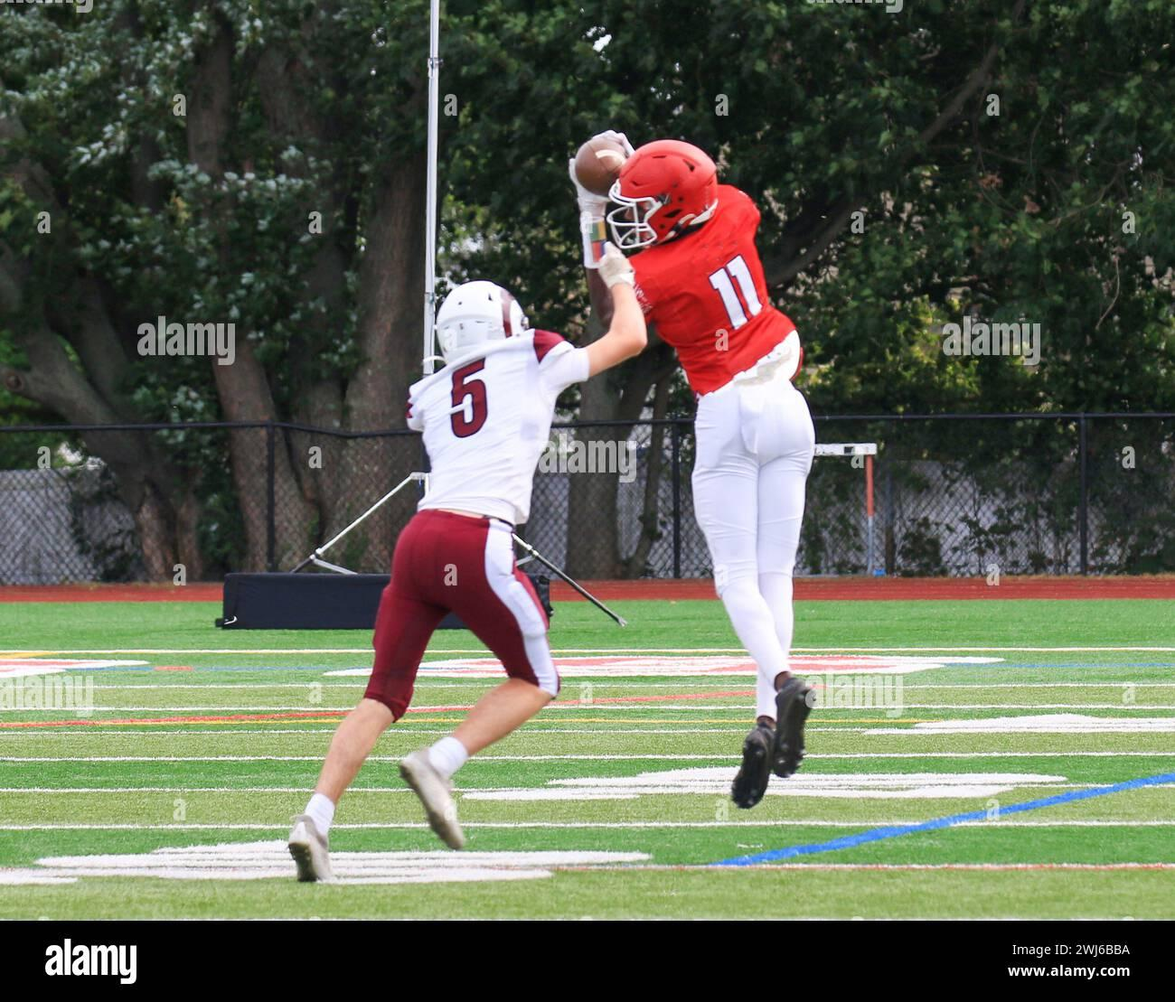americanFootball: (571, 133, 639, 191)
